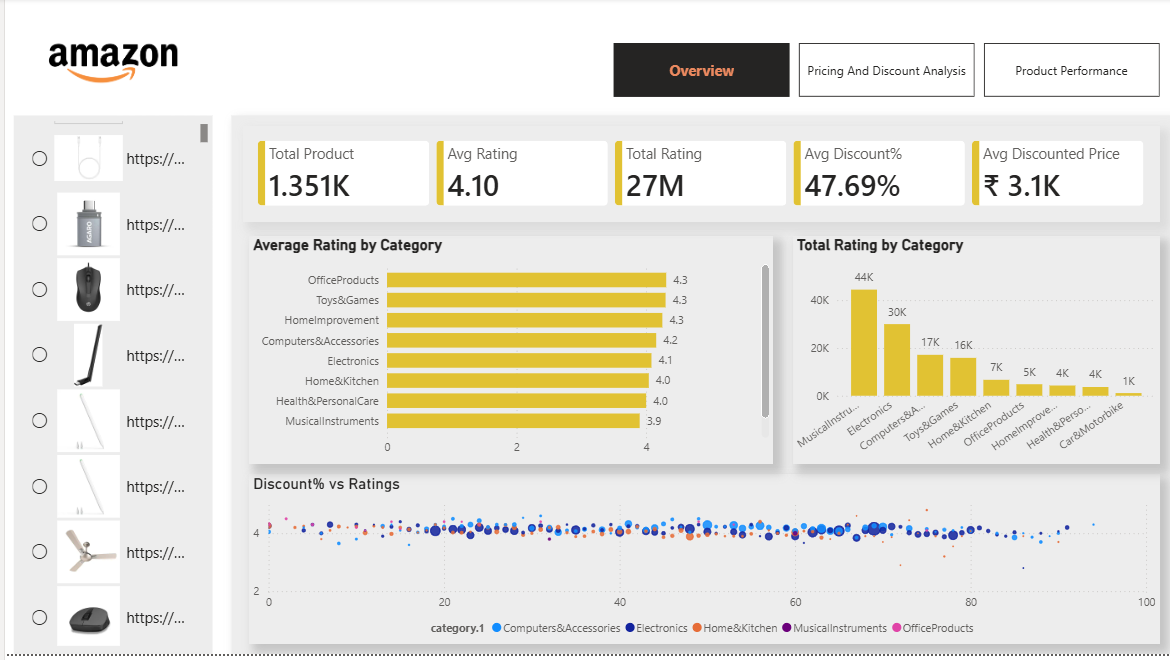

The page's visual inventory and layout, read from the dashboard file:
{"tool":"powerbi","page":{"name":"Overview","canvas":[1280,720],"ordinal":0},"visuals":[{"type":"shape","box":[9.6,129,218.2,591.4],"z":0},{"type":"shape","box":[248.4,129,1031.9,591.4],"z":1000},{"type":"cardVisual","fields":{"Data":["Count(amazon.product_id)","Avg(amazon.rating)","Sum(amazon.rating_count)","Avg(amazon.discount_percentage)","Avg(amazon.discounted_price)"]},"box":[260.7,140,1007.2,105.7],"z":2000},{"type":"barChart","title":"Average Rating by Category","fields":{"Category":["amazon.category.1"],"Y":["Avg(amazon.rating)"]},"box":[267.6,260.7,576.3,251.1],"z":3000},{"type":"columnChart","title":"Total Rating by Category","fields":{"Category":["amazon.category.1"],"Y":["Avg(amazon.rating_count)"]},"box":[864.5,260.7,403.4,251.1],"z":4000},{"type":"scatterChart","title":"Discount% vs Ratings","fields":{"X":["amazon.Discount%"],"Y":["Avg(amazon.rating)"],"Size":["Sum(amazon.rating_count)"],"Series":["amazon.category.1"]},"box":[267.6,522.8,1000.3,186.6],"z":5000},{"type":"listSlicer","fields":{"Values":["amazon.img_link"]},"box":[23.3,130.4,204.5,590.1],"z":6000},{"type":"image","box":[9.6,26.1,218.2,82.3],"z":7000},{"type":"pageNavigator","box":[668.3,49.4,599.7,59],"z":8000}]}

Visuals, with their boxes in screenshot pixels (x1, y1, x2, y2), scaled from the page's 1280x720 canvas onto the 1170x660 screenshot:
shape: {"x1": 9, "y1": 118, "x2": 208, "y2": 659}
shape: {"x1": 227, "y1": 118, "x2": 1169, "y2": 659}
cardVisual - Count(amazon.product_id) x Avg(amazon.rating): {"x1": 238, "y1": 128, "x2": 1159, "y2": 225}
"Average Rating by Category" barChart: {"x1": 245, "y1": 239, "x2": 771, "y2": 469}
"Total Rating by Category" columnChart: {"x1": 790, "y1": 239, "x2": 1159, "y2": 469}
"Discount% vs Ratings" scatterChart: {"x1": 245, "y1": 479, "x2": 1159, "y2": 650}
listSlicer - amazon.img_link: {"x1": 21, "y1": 120, "x2": 208, "y2": 659}
image: {"x1": 9, "y1": 24, "x2": 208, "y2": 99}
pageNavigator: {"x1": 611, "y1": 45, "x2": 1159, "y2": 99}
